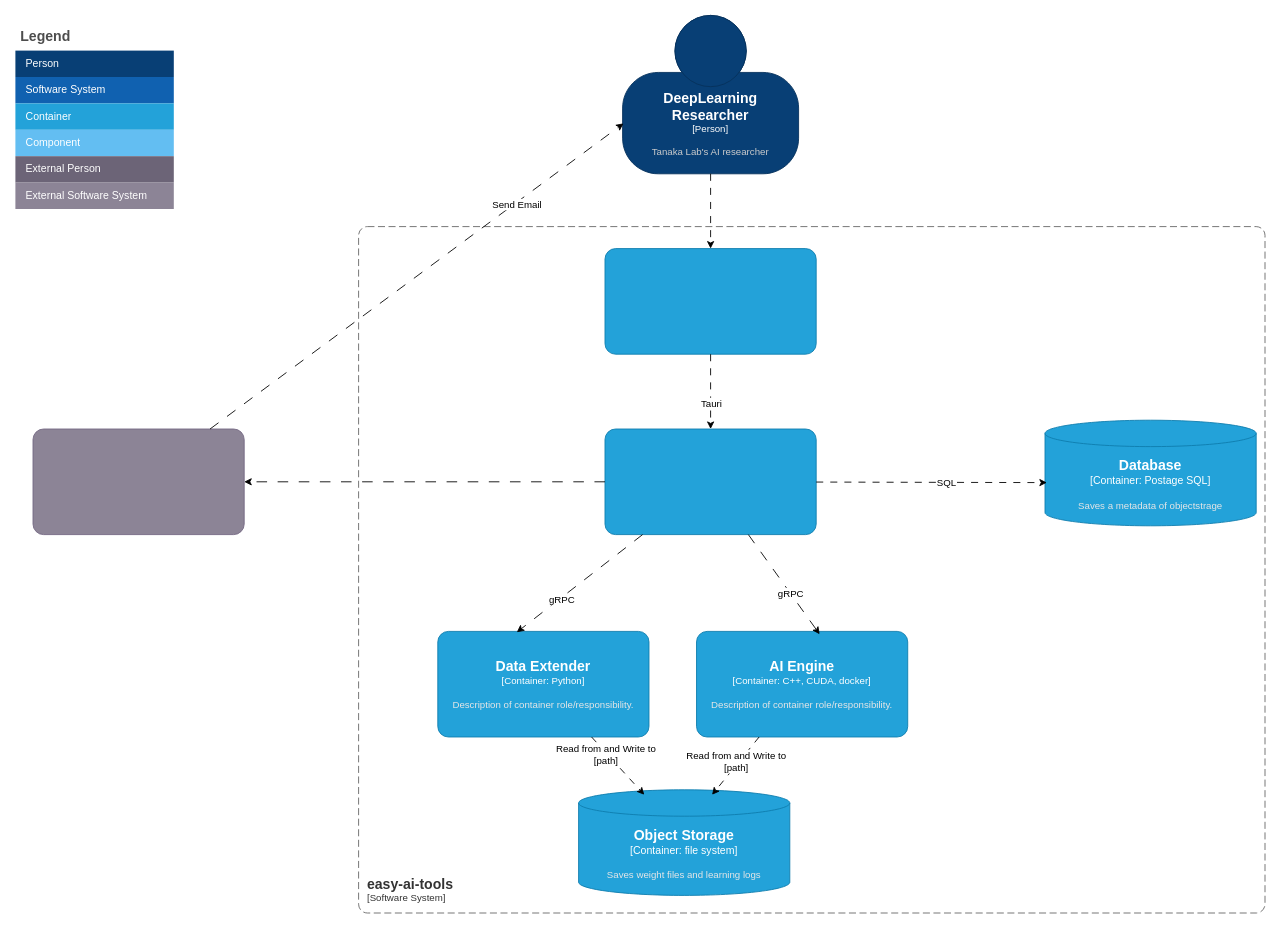
This 1280x928 diagram has some shape labels left out. The shapes that lost their labels are listed below. From the top down, each one's centre as x and y in pixels, then its label:
At [710,301]: "TS FrontEnd [Container: TypeScript] FrontEnd".
At [138,481]: "Email System [Software System] The internal Microsoft Exchange e-mail system".
At [710,481]: "RUST API Server [Container: Rust, Tauri] API".
